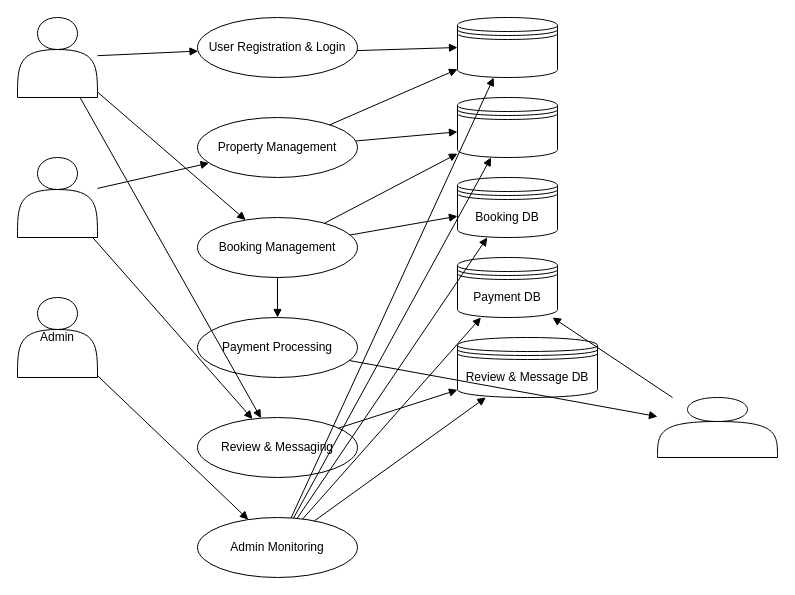
This 795x595 diagram has some shape labels left out. The box of each missing label's shape, as (x1, y1, x2, y2) in pixels:
3rd-Party Services: (656, 396, 778, 458)
Guest: (16, 16, 98, 98)
Host: (16, 156, 98, 238)
Property DB: (456, 96, 558, 158)
User DB: (456, 16, 558, 78)
